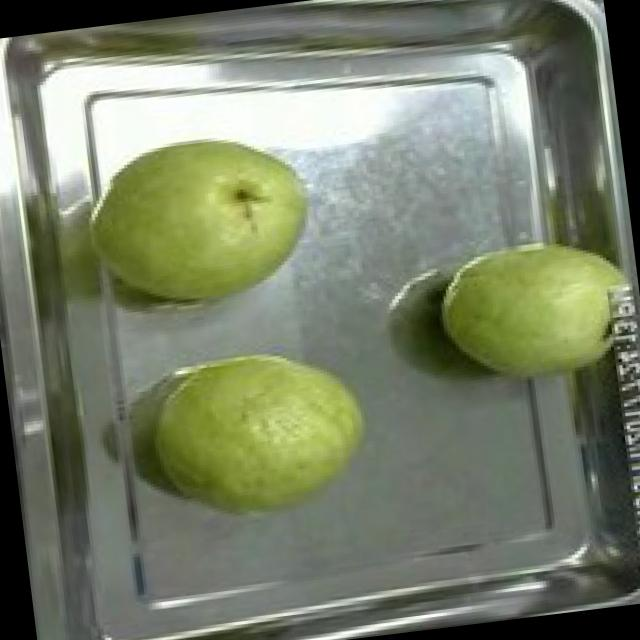Fruit: (79, 112, 330, 328), (137, 324, 385, 536), (423, 218, 640, 398)
